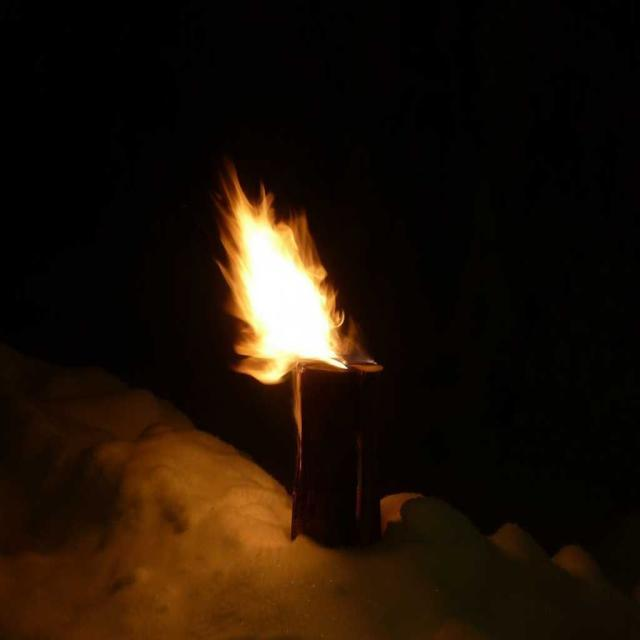Fire: (205, 141, 378, 381)
